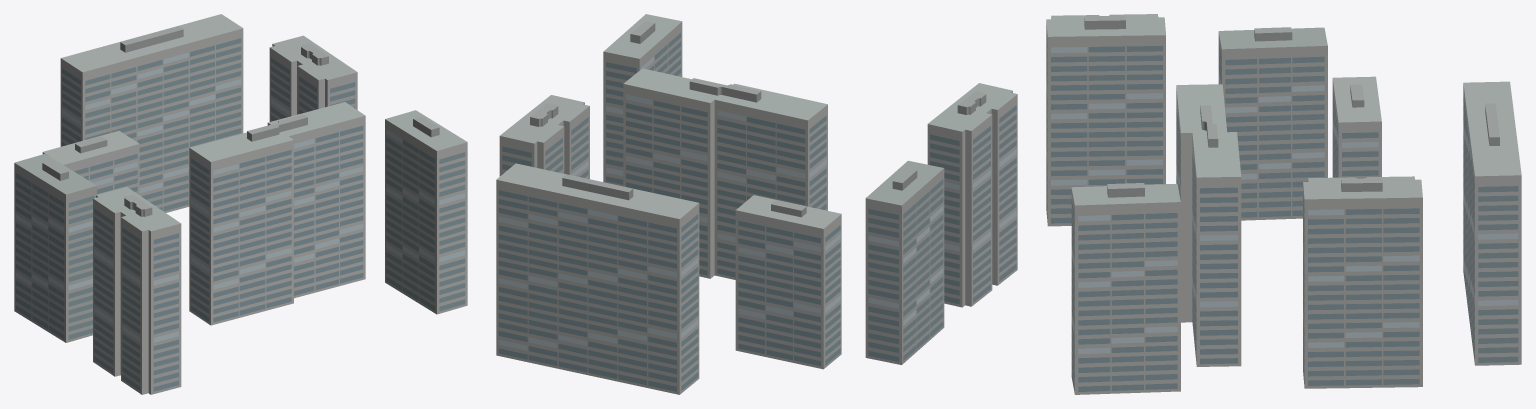
Rendered from apt-a13985103.glb.
3 renders of one model, left to right at view 1: azimuth 30°, elevation 25°; view 2: azimuth 150°, elevation 25°; view 3: azimuth 270°, elevation 25°, orthographic. The views are drawn at different scales.
Visible parts, largest first — view 1: apt-a13985103; view 2: apt-a13985103; view 3: apt-a13985103.
Boxes of the visible parts, x1,y1,x2,y2 form: apt-a13985103: (14,14,467,394); apt-a13985103: (496,14,1017,394); apt-a13985103: (1046,14,1521,394).
Size of the model in its own units: 116 by 55 by 120.
